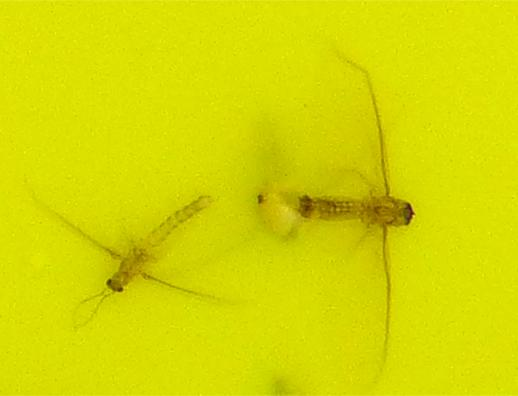Ephemeroptera: (275, 100, 418, 289), (100, 194, 205, 296)
